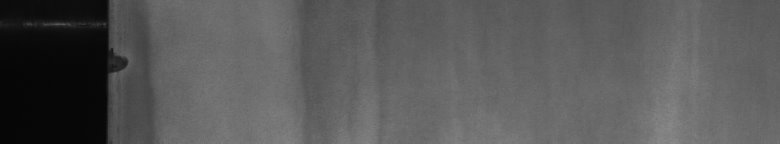hb: (120, 50, 152, 92)
